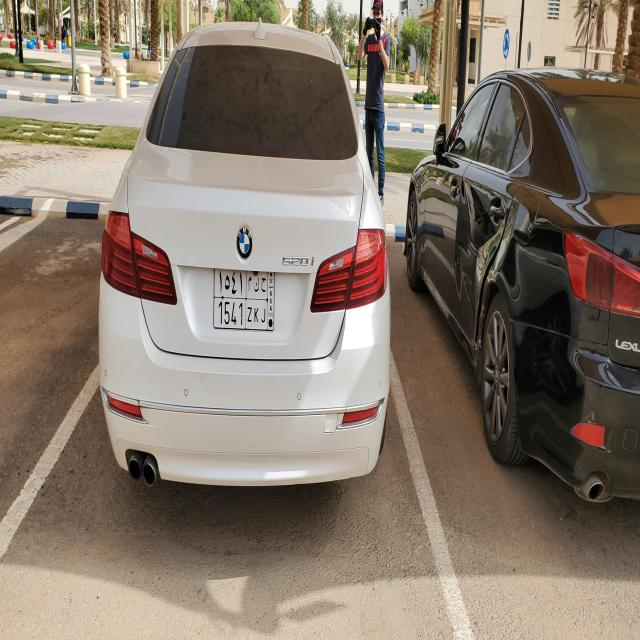license_plate: (213, 268, 274, 331)
